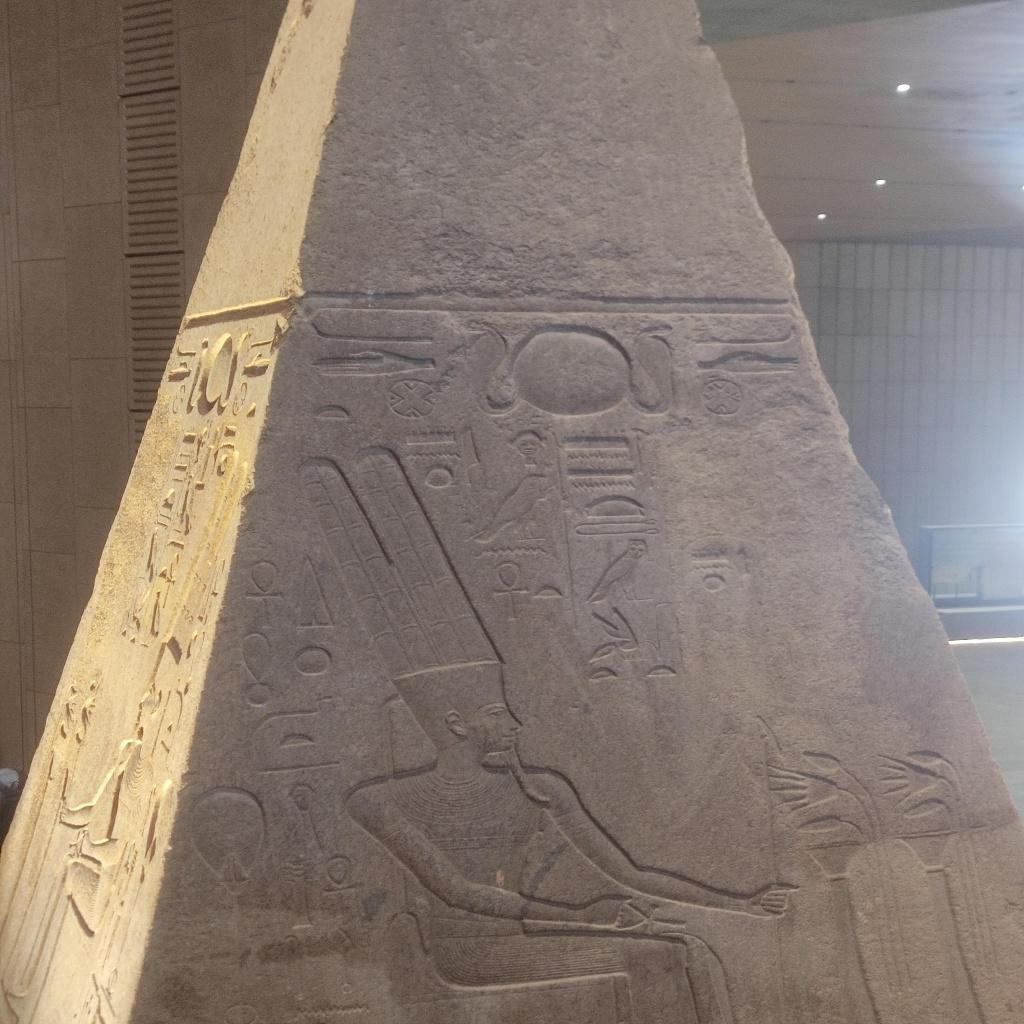Obelsik Tip of Hatshepsut: (0, 0, 1021, 1016)
